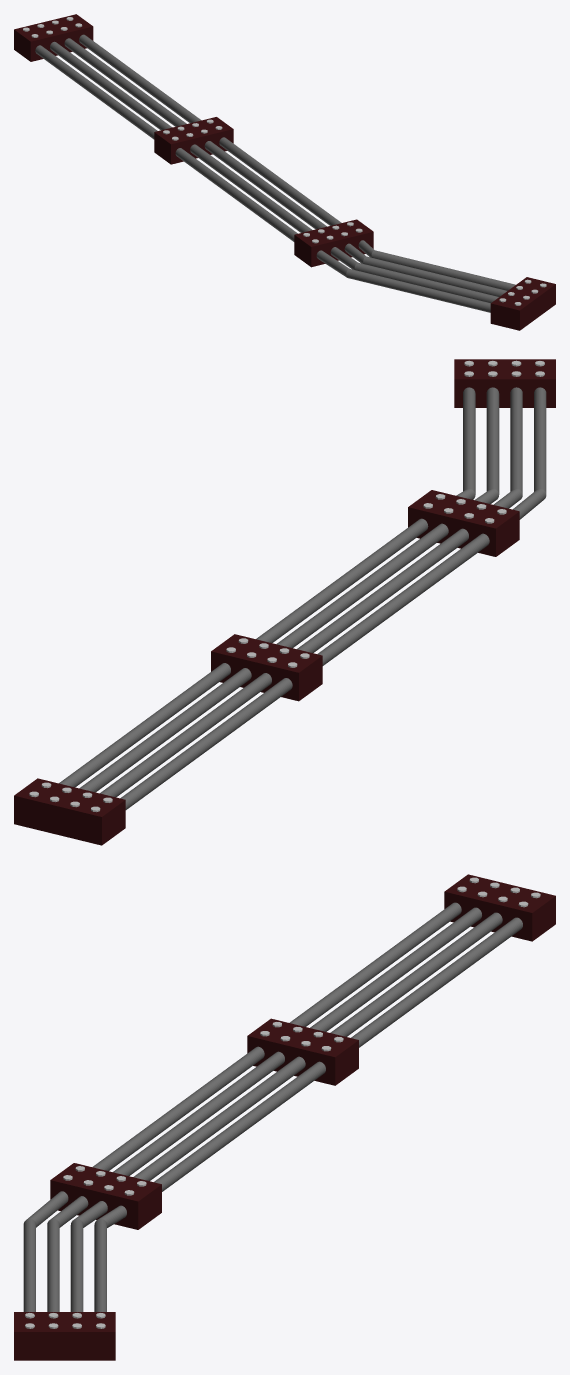
The model's file is Tuberia_2_OK.fbx.
3 renders of one model, top to bottom at view 1: azimuth 30°, elevation 25°; view 2: azimuth 150°, elevation 25°; view 3: azimuth 330°, elevation 25°, orthographic. The views are drawn at different scales.
Visible parts, largest first — view 1: Tuberias, Pistones, Tornillos; view 2: Tuberias, Pistones, Tornillos; view 3: Tuberias, Pistones, Tornillos.
Part boxes in pixels (x1=…): Tuberias: x1=35, y1=34, x2=515, y2=312; Pistones: x1=14, y1=14, x2=555, y2=330; Tornillos: x1=23, y1=17, x2=546, y2=305; Tuberias: x1=59, y1=387, x2=546, y2=809; Pistones: x1=14, y1=359, x2=555, y2=845; Tornillos: x1=29, y1=360, x2=544, y2=812; Tuberias: x1=23, y1=902, x2=522, y2=1311; Pistones: x1=14, y1=874, x2=555, y2=1360; Tornillos: x1=25, y1=877, x2=540, y2=1328.
Size of the model in its own units: 3.05 by 0.4578 by 15.05.
